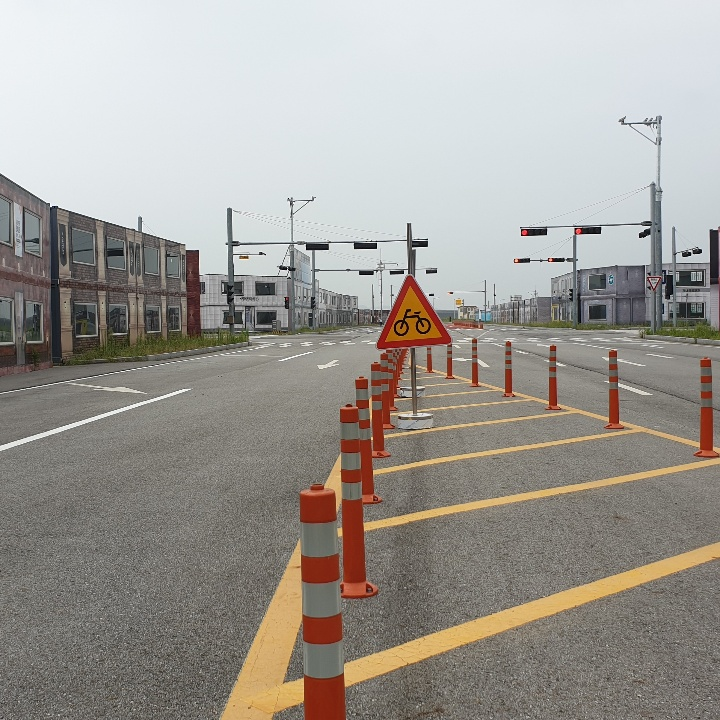bicycle: (371, 276, 453, 353)
